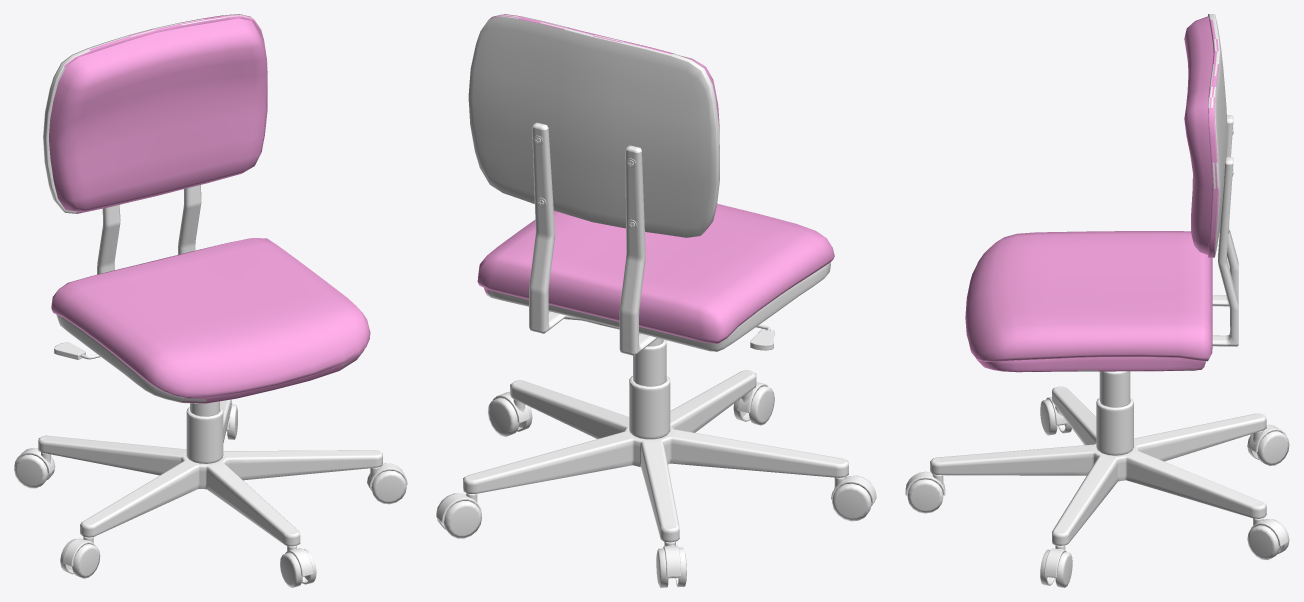
Rendered from pinkchair.glb.
3 renders of one model, left to right at view 1: azimuth 30°, elevation 25°; view 2: azimuth 150°, elevation 25°; view 3: azimuth 270°, elevation 25°, orthographic. The views are drawn at different scales.
Visible parts, largest first — view 1: Chair_Sit.001, Chair_Back.001, Holder.001, Metal_Holder.001, UpDown.001, Chair_Wheel2.001, Chair_Wheel3.001, Chair_Wheel4.001, Chair_Wheel1.001; view 2: Chair_Back.001, Chair_Sit.001, Holder.001, Metal_Holder.001, UpDown.001, Chair_Wheel.001, Chair_Wheel2.001, Chair_Wheel3.001, Chair_Wheel1.001, Chair_Wheel4.001; view 3: Chair_Sit.001, Holder.001, Chair_Back.001, UpDown.001, Metal_Holder.001, Chair_Wheel.001, Chair_Wheel1.001, Chair_Wheel4.001, Chair_Wheel3.001, Chair_Wheel2.001.
Part boxes in pixels (x1,y1,x2,y2): Chair_Sit.001: (51, 238, 370, 403); Chair_Back.001: (43, 14, 267, 213); Holder.001: (38, 399, 382, 546); Metal_Holder.001: (97, 185, 201, 274); UpDown.001: (186, 401, 223, 463); Chair_Wheel2.001: (60, 536, 100, 578); Chair_Wheel3.001: (367, 463, 407, 504); Chair_Wheel4.001: (14, 448, 55, 488); Chair_Wheel1.001: (280, 545, 316, 587); Chair_Back.001: (468, 14, 719, 237); Chair_Sit.001: (477, 203, 834, 351); Holder.001: (463, 370, 848, 542); Metal_Holder.001: (529, 122, 657, 355); UpDown.001: (629, 338, 670, 439); Chair_Wheel.001: (436, 493, 481, 538); Chair_Wheel2.001: (831, 475, 876, 521); Chair_Wheel3.001: (488, 391, 532, 436); Chair_Wheel1.001: (733, 382, 774, 425); Chair_Wheel4.001: (656, 541, 686, 587); Chair_Sit.001: (965, 231, 1212, 372); Holder.001: (930, 386, 1266, 545); Chair_Back.001: (1184, 14, 1227, 257); UpDown.001: (1096, 371, 1133, 455); Metal_Holder.001: (1212, 115, 1238, 346); Chair_Wheel.001: (1247, 518, 1289, 559); Chair_Wheel1.001: (905, 471, 945, 513); Chair_Wheel4.001: (1247, 424, 1289, 465); Chair_Wheel3.001: (1040, 545, 1072, 587); Chair_Wheel2.001: (1040, 397, 1071, 435).
Bounding box in the file's own units: 0.9507 × 1.19 × 0.9073.
